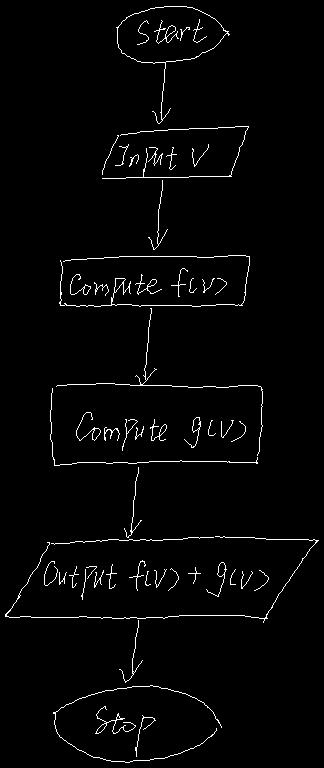arrow: (135, 308, 156, 384), (119, 620, 142, 682), (148, 180, 167, 249), (124, 467, 141, 537), (152, 62, 170, 123)
data: (5, 536, 318, 622), (102, 126, 248, 178)
process: (50, 383, 262, 465), (59, 255, 249, 306)
terminator: (53, 685, 221, 762), (116, 6, 229, 63)
text: (44, 560, 268, 599), (76, 412, 245, 450), (70, 268, 226, 304), (115, 144, 208, 177), (95, 706, 155, 756), (137, 19, 206, 44)
